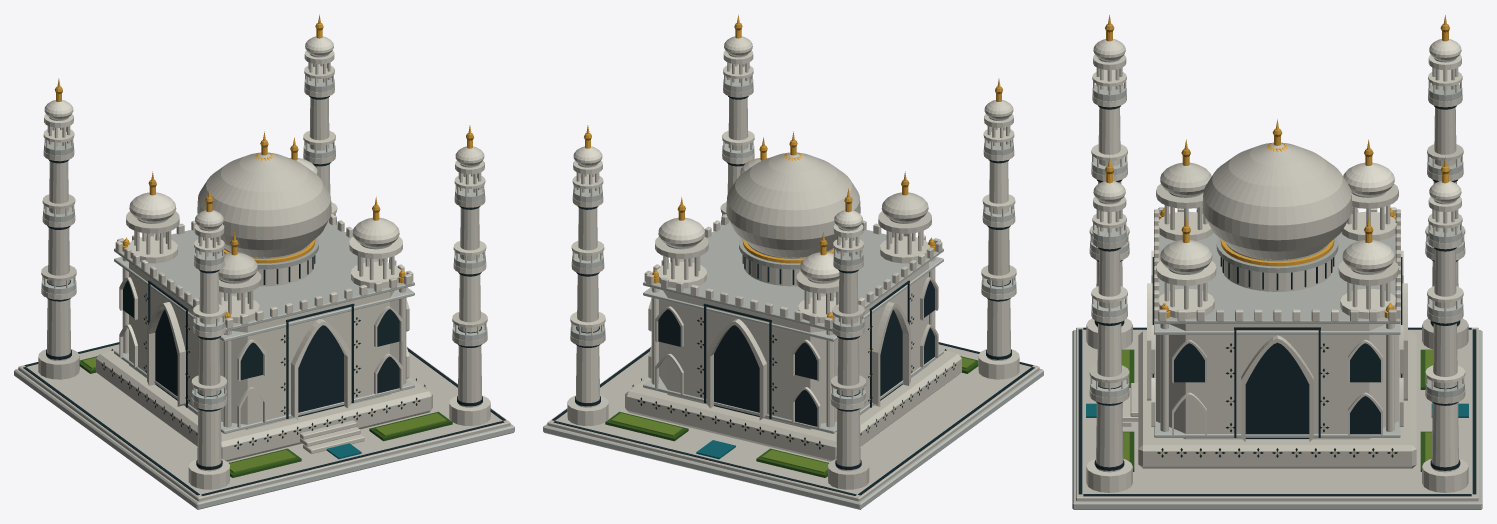
File: fort_2.glb
3 views of the same model, side by side, from view 1: azimuth 30°, elevation 25°; view 2: azimuth 150°, elevation 25°; view 3: azimuth 270°, elevation 25° (orthographic). The views are drawn at different scales.
Parts seen in each view (by area): view 1: fort_2_structure, fort_2_brass; view 2: fort_2_structure, fort_2_brass; view 3: fort_2_structure, fort_2_brass.
Boxes of the visible parts, x1=… form: fort_2_structure: x1=14, y1=23, x2=514, y2=509; fort_2_brass: x1=56, y1=14, x2=472, y2=445; fort_2_structure: x1=543, y1=23, x2=1043, y2=509; fort_2_brass: x1=585, y1=14, x2=1001, y2=445; fort_2_structure: x1=1072, y1=24, x2=1482, y2=509; fort_2_brass: x1=1106, y1=15, x2=1448, y2=453.
Bounding box in the file's own units: 7.6 × 6.93 × 7.6.
